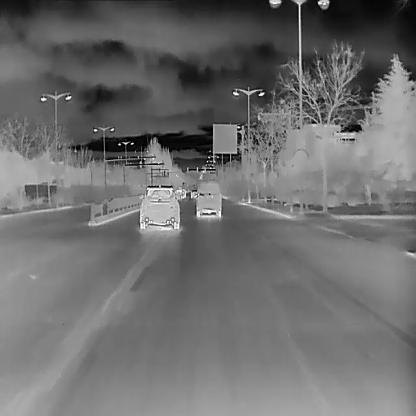car: (138, 184, 180, 229), (194, 178, 222, 218), (176, 186, 186, 198), (174, 188, 184, 199), (190, 188, 198, 198)
